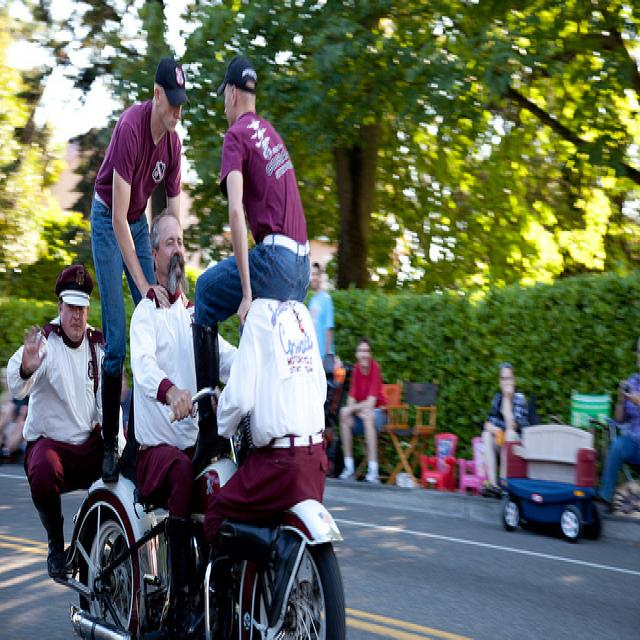motor: (53, 381, 356, 630)
